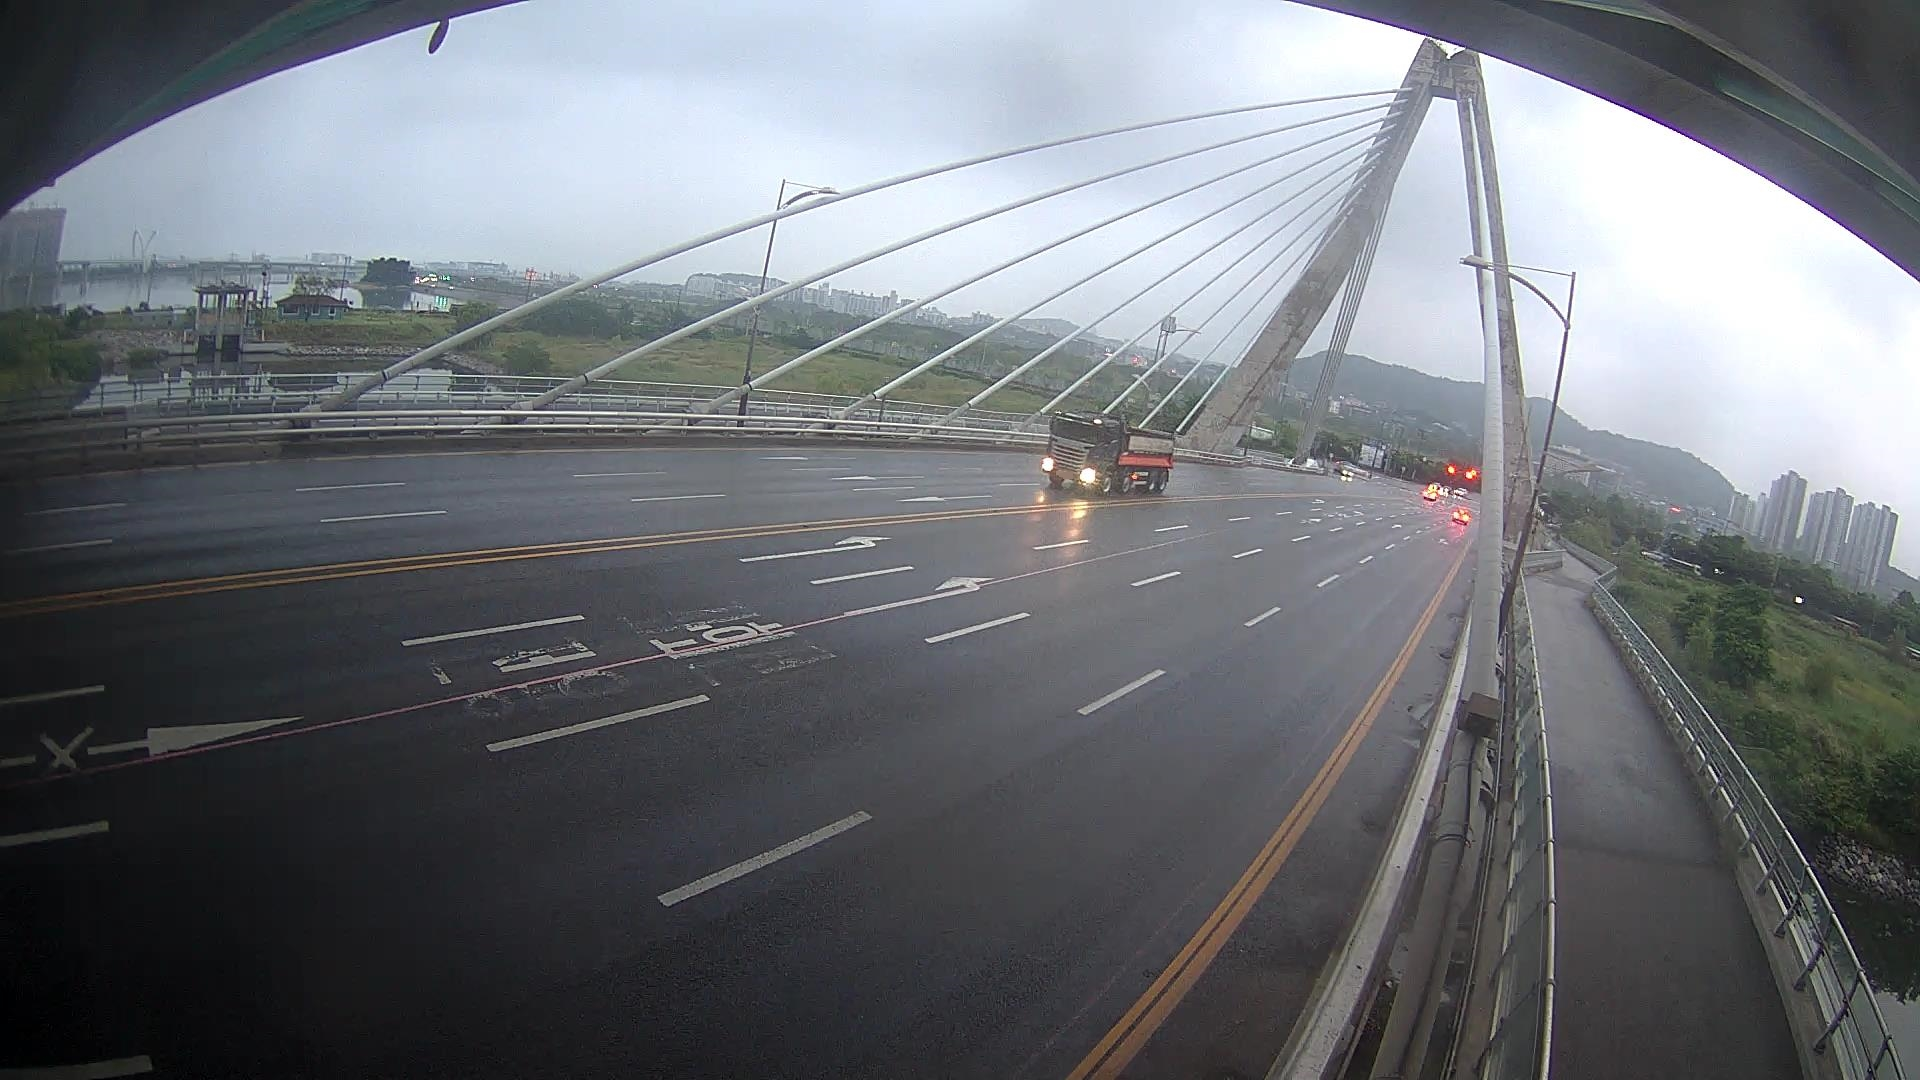정상차량: (1040, 409, 1175, 498)
